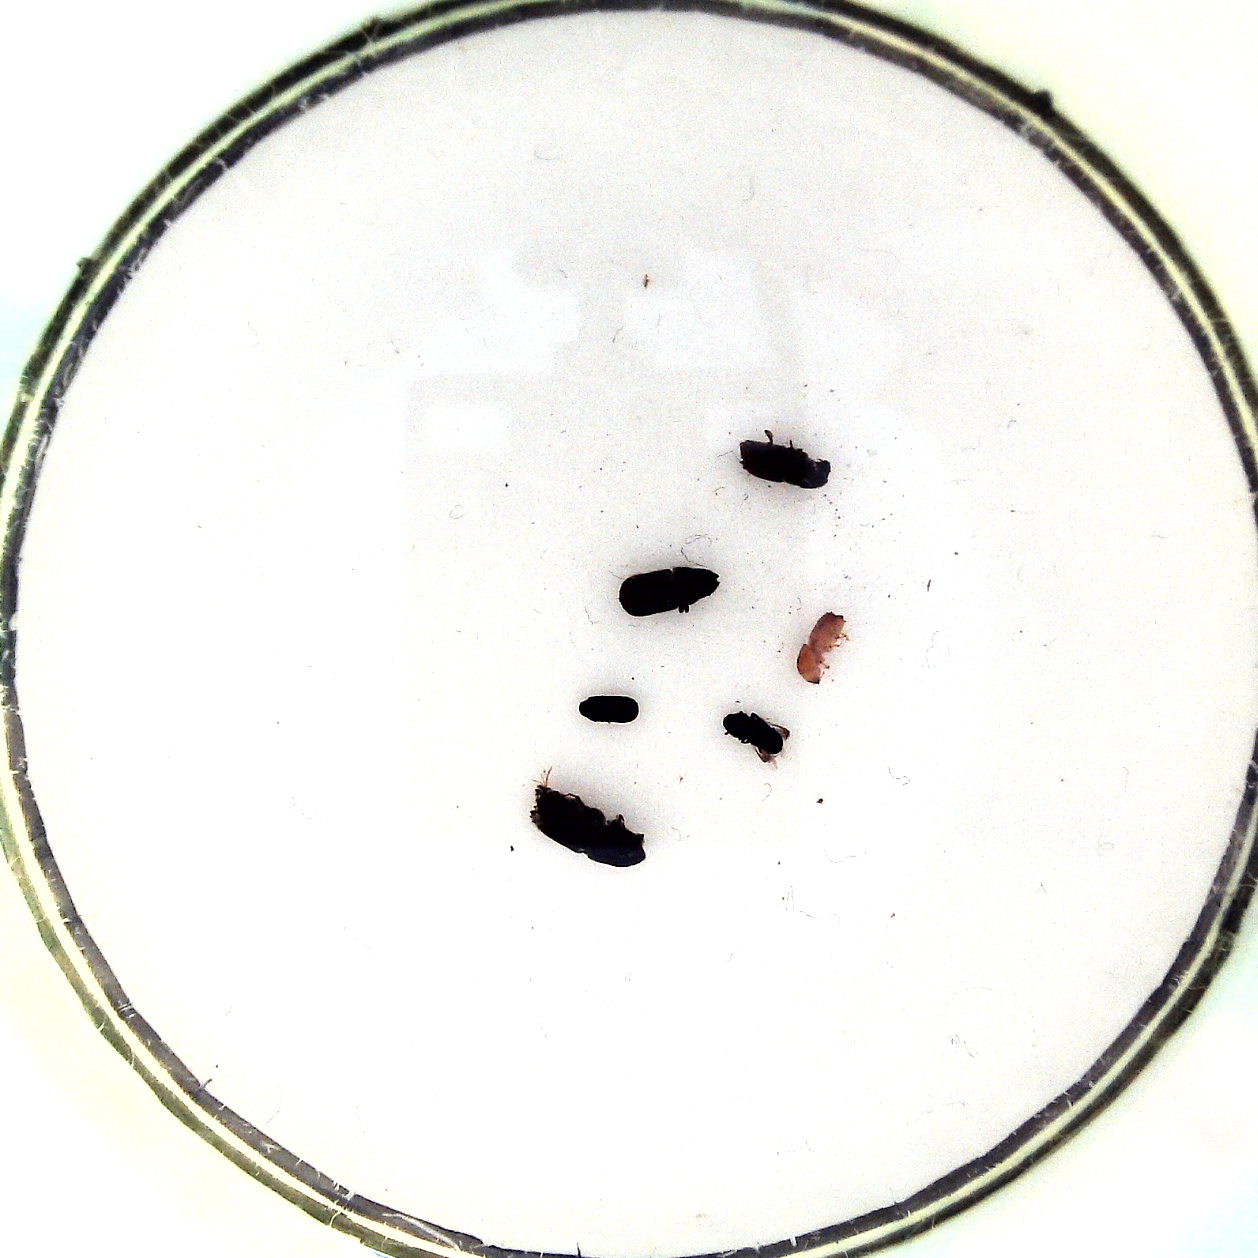Boerner: (526, 765, 652, 870)
Linnaeus: (730, 423, 836, 492)
acuminatus: (788, 608, 852, 690)
armandi: (615, 562, 723, 621)
coleoptera: (720, 707, 791, 773), (576, 688, 643, 728)
